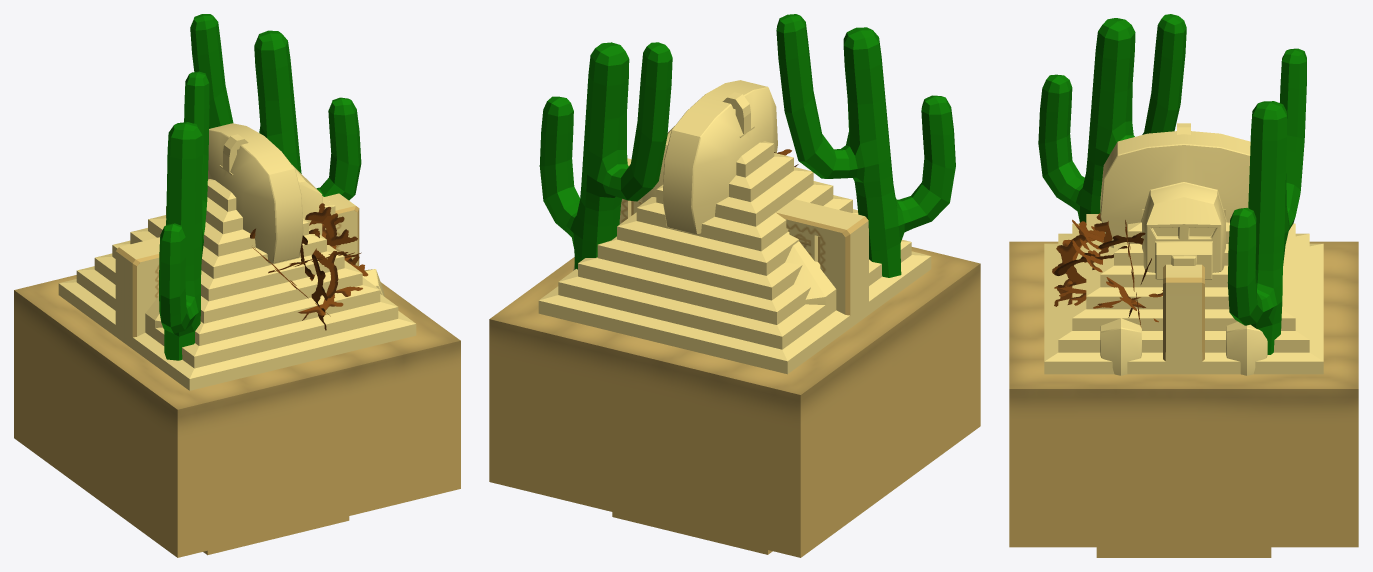
File: EgyptBoard.fbx
3 renders of one model, left to right at view 1: azimuth 30°, elevation 25°; view 2: azimuth 150°, elevation 25°; view 3: azimuth 270°, elevation 25°, orthographic. The views are drawn at different scales.
Visible parts, largest first — view 1: Egypt_1, Egypt_2, Egypt_3, Egypt_Wall, Egypt_Block; view 2: Egypt_1, Egypt_2, Egypt_3, Egypt_Wall, Egypt_Block; view 3: Egypt_1, Egypt_2, Egypt_3, Egypt_Wall, Egypt_Block.
Part boxes in pixels (x1=…): Egypt_1: x1=14, y1=134, x2=460, y2=557; Egypt_2: x1=159, y1=14, x2=368, y2=360; Egypt_3: x1=145, y1=123, x2=384, y2=337; Egypt_Wall: x1=115, y1=193, x2=359, y2=348; Egypt_Block: x1=203, y1=516, x2=349, y2=555; Egypt_1: x1=489, y1=92, x2=980, y2=557; Egypt_2: x1=539, y1=14, x2=955, y2=277; Egypt_3: x1=573, y1=80, x2=836, y2=304; Egypt_Wall: x1=619, y1=158, x2=868, y2=328; Egypt_Block: x1=612, y1=512, x2=772, y2=554; Egypt_1: x1=1009, y1=123, x2=1358, y2=547; Egypt_2: x1=1038, y1=14, x2=1306, y2=354; Egypt_3: x1=1100, y1=131, x2=1267, y2=375; Egypt_Wall: x1=1163, y1=255, x2=1204, y2=373; Egypt_Block: x1=1096, y1=547, x2=1271, y2=557.
Bounding box in the file's own units: 205 × 304 × 200.
